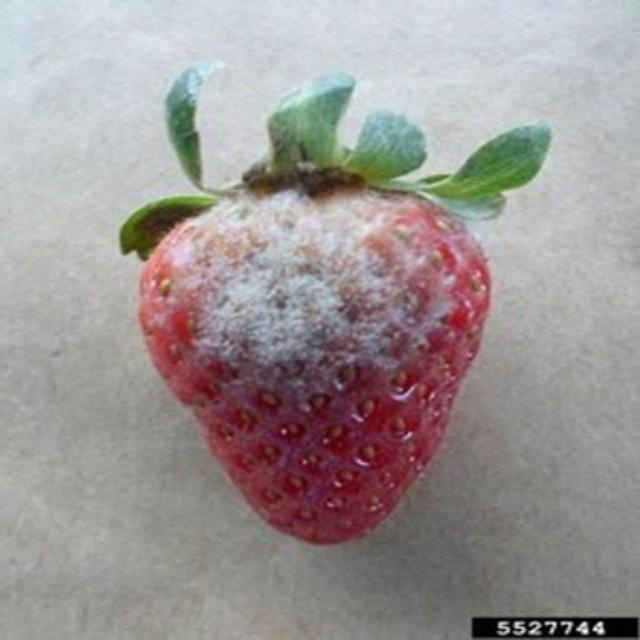Powdery Mildew Fruit: (136, 178, 483, 433)
